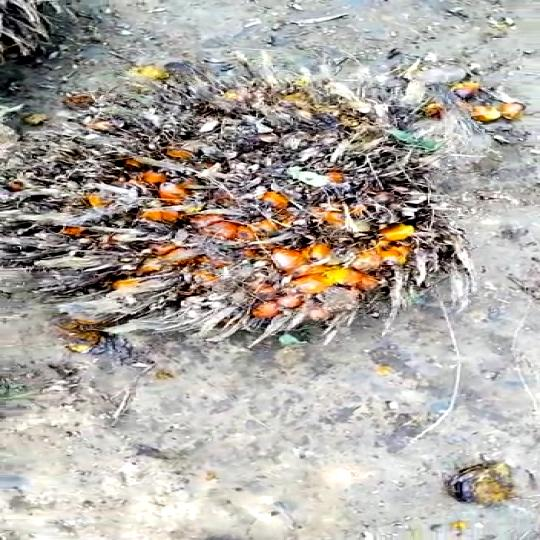terlalu masak: (0, 26, 540, 373)
